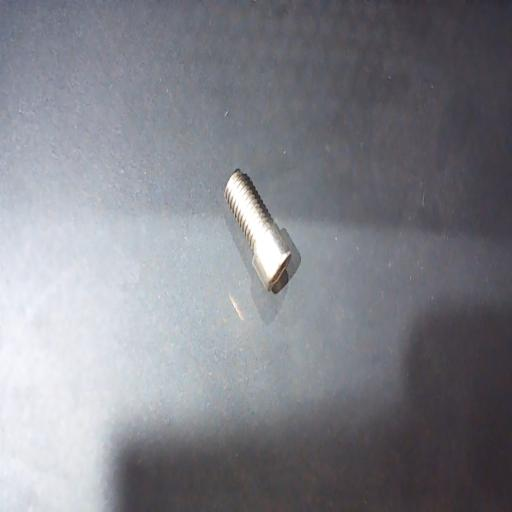screw: (225, 169, 291, 292)
